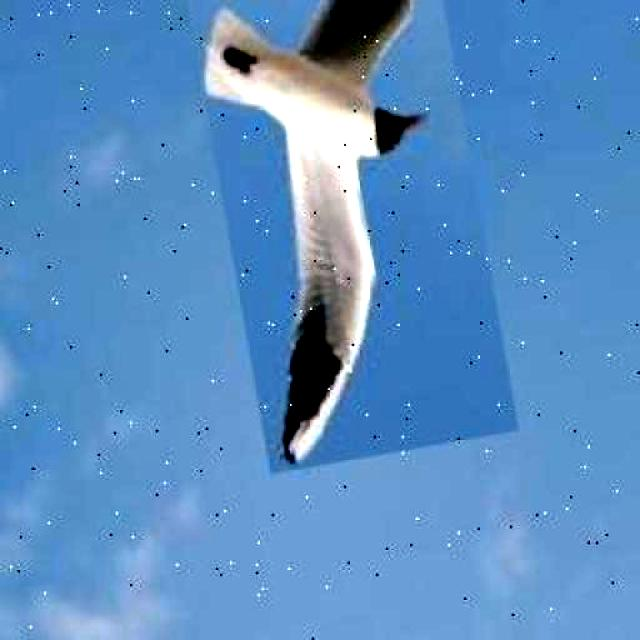airplane: (154, 0, 518, 474)
